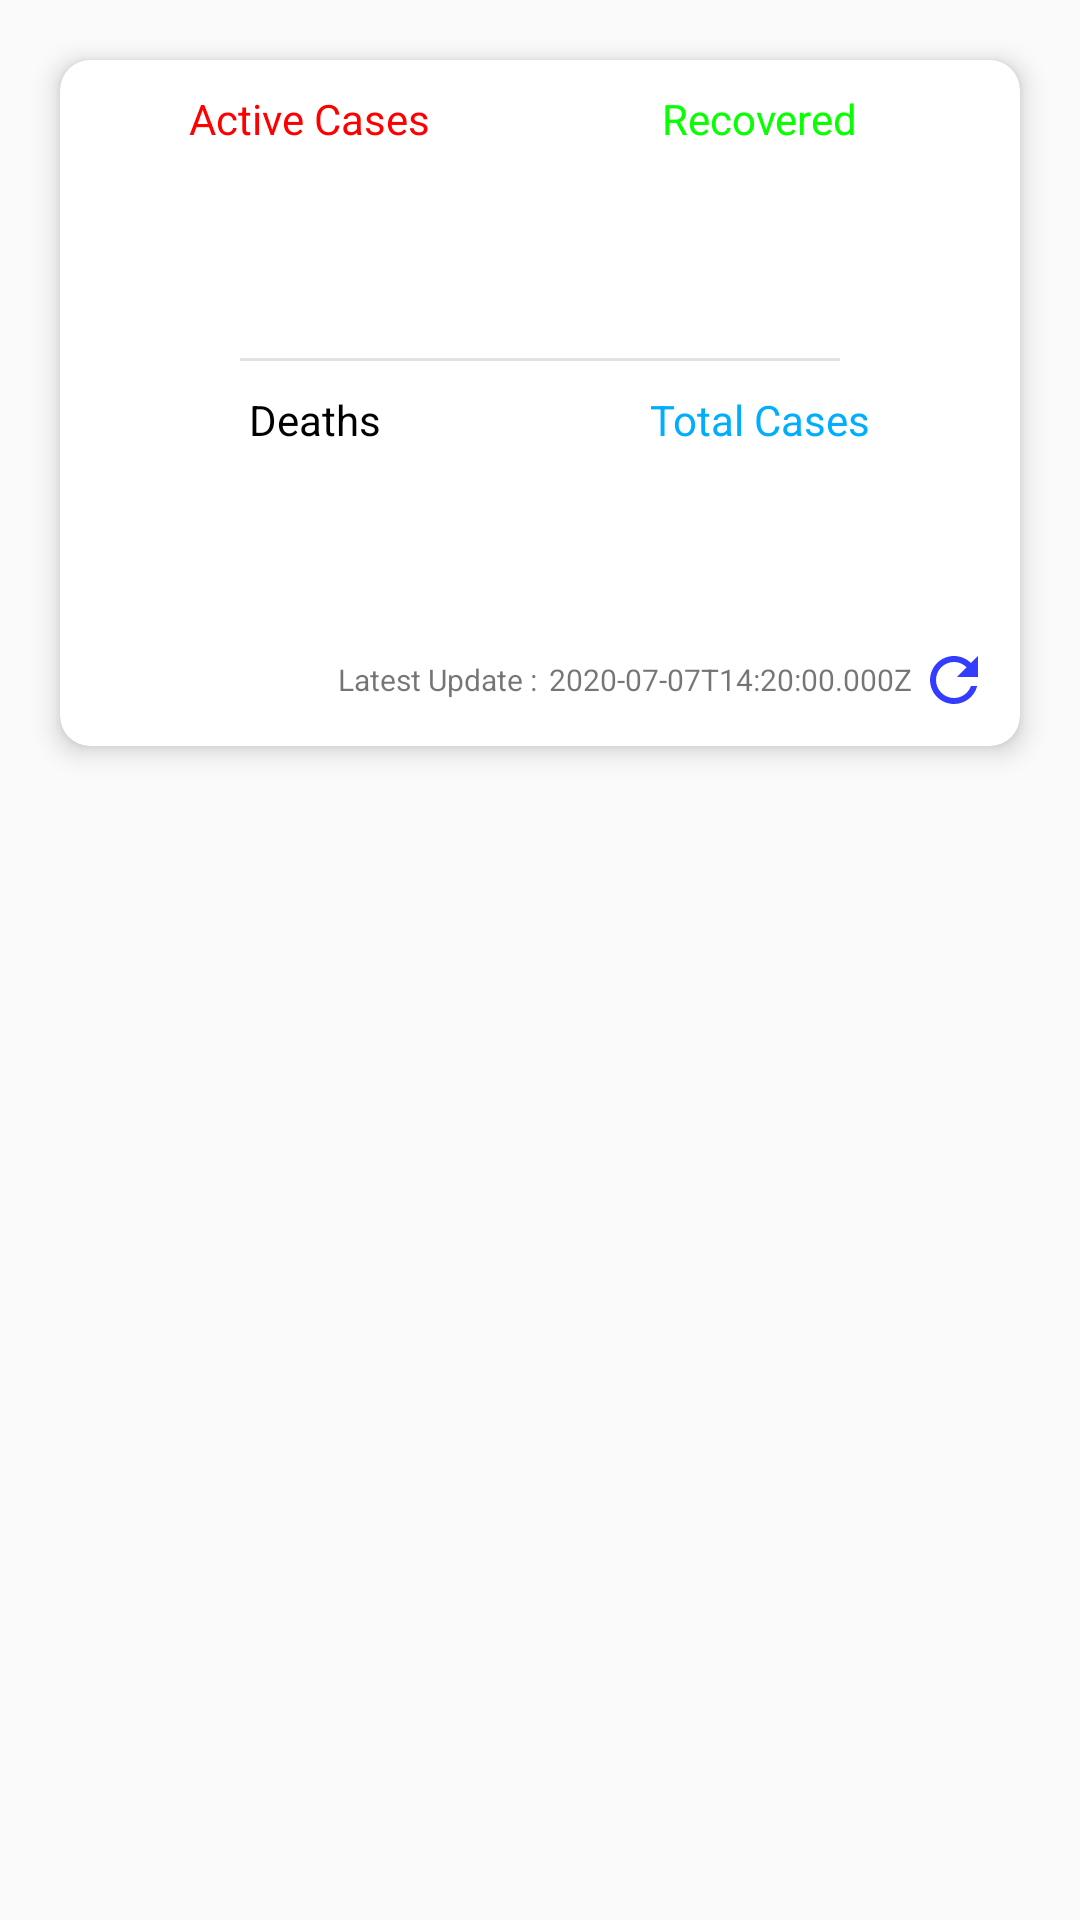

Where icons sit on this 1080 × 1920 app screen, as (x1, y1, x2, y2):
value refresh: (930, 656, 978, 704)
